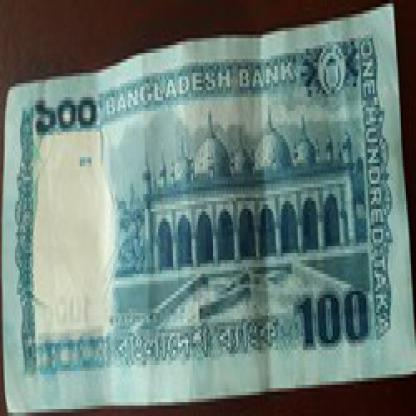one hundred taka: (294, 291, 372, 347), (30, 97, 103, 135)
